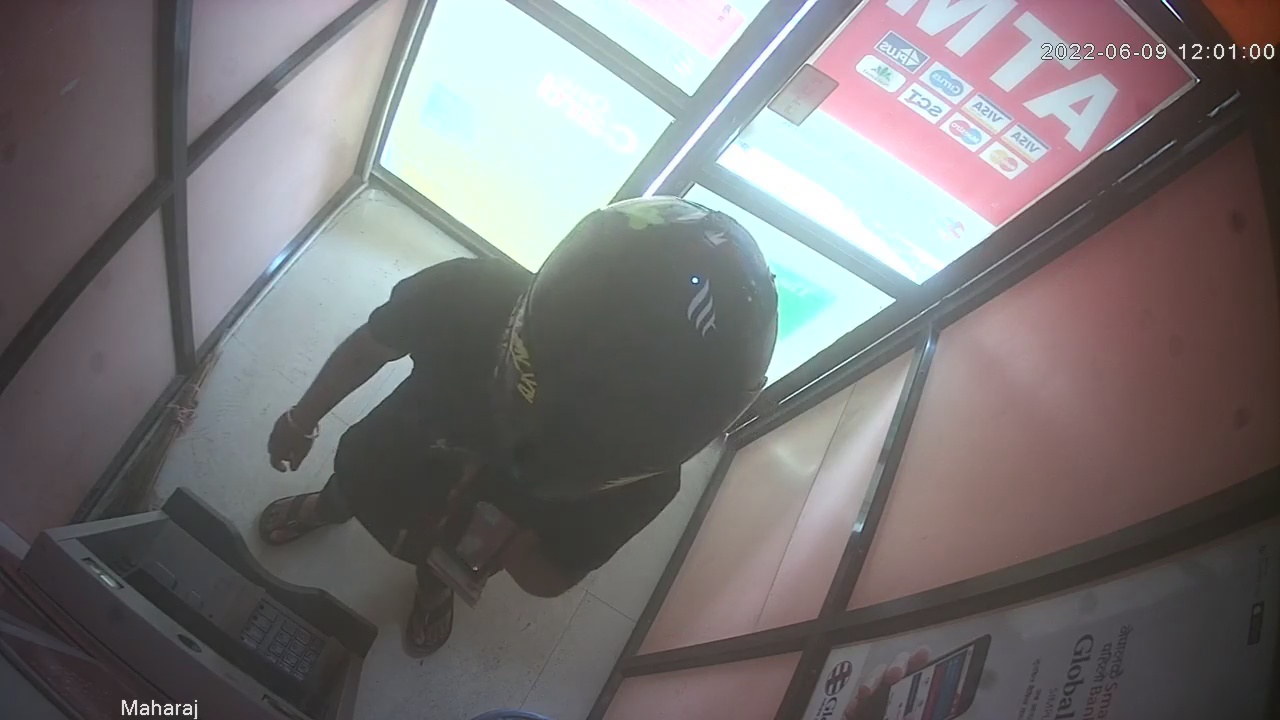helmet: (489, 196, 780, 495)
person: (249, 192, 779, 659)
